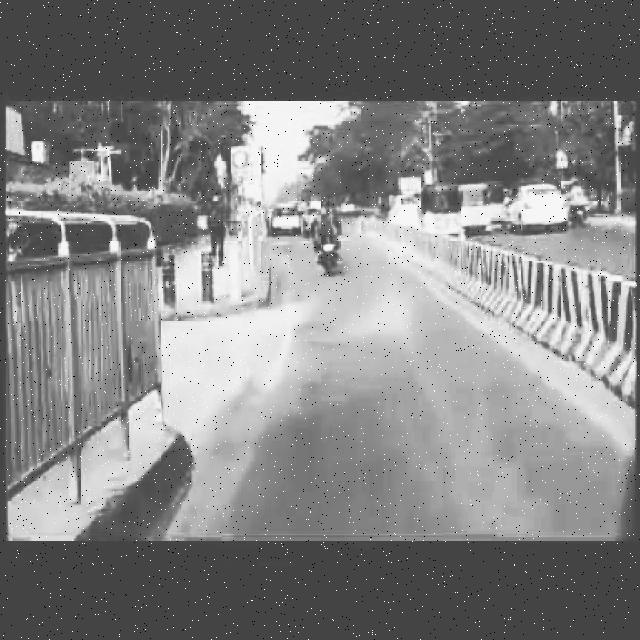Car: (511, 183, 560, 234), (380, 192, 424, 228)
